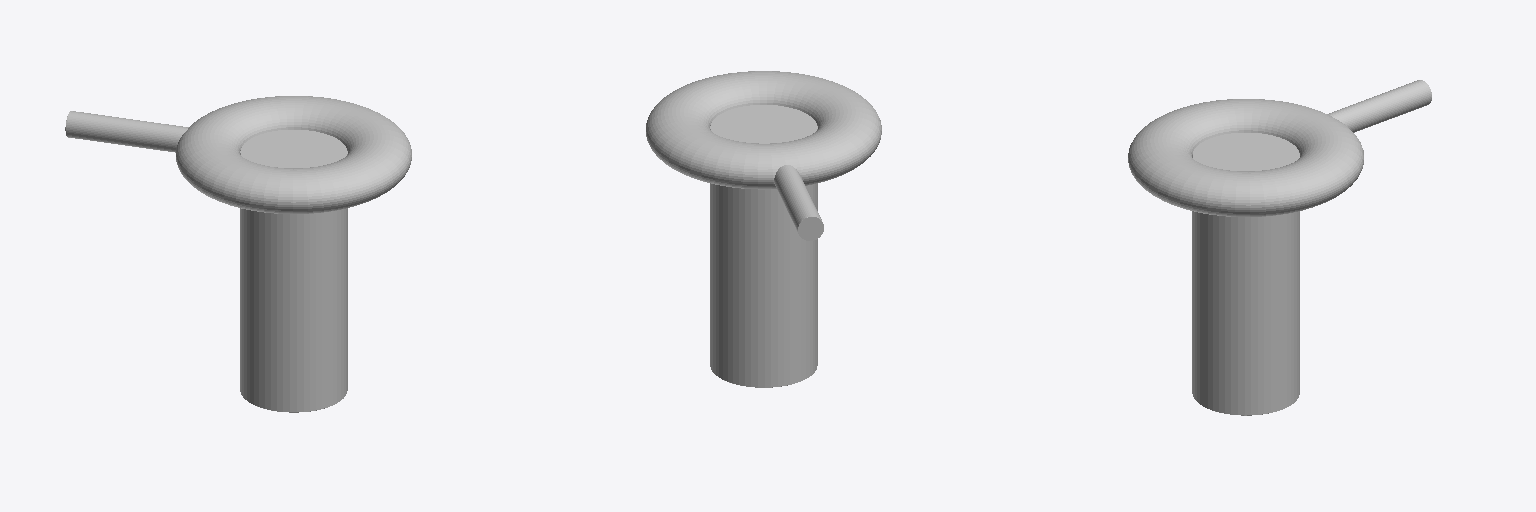
The model's file is Rt-BarreSolo.obj.
3 views of the same model, side by side, from view 1: azimuth 30°, elevation 25°; view 2: azimuth 150°, elevation 25°; view 3: azimuth 270°, elevation 25° (orthographic).
Parts seen in each view (by area): view 1: Rt-BarreSolo_Barre_Torus.001; view 2: Rt-BarreSolo_Barre_Torus.001; view 3: Rt-BarreSolo_Barre_Torus.001.
Boxes of the visible parts, x1,y1,x2,y2 form: Rt-BarreSolo_Barre_Torus.001: [65, 96, 411, 412]; Rt-BarreSolo_Barre_Torus.001: [646, 71, 881, 387]; Rt-BarreSolo_Barre_Torus.001: [1128, 80, 1431, 415].
Bounding box in the file's own units: 1.17 × 1.15 × 1.25.